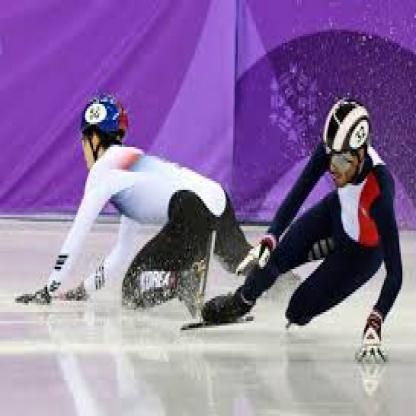Fall_Down: (12, 97, 304, 326)
